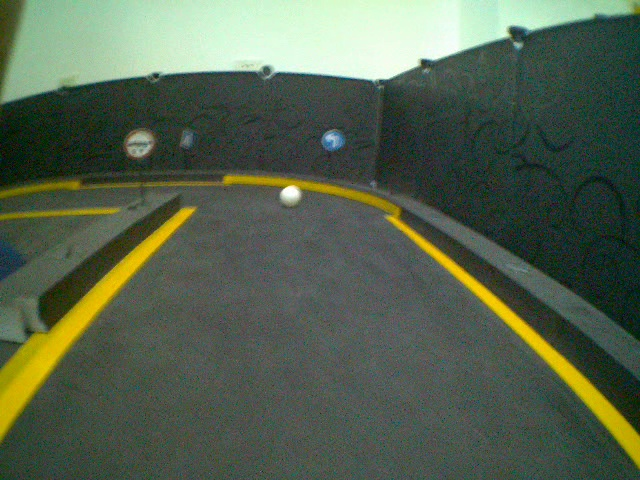ball: (279, 182, 303, 210)
